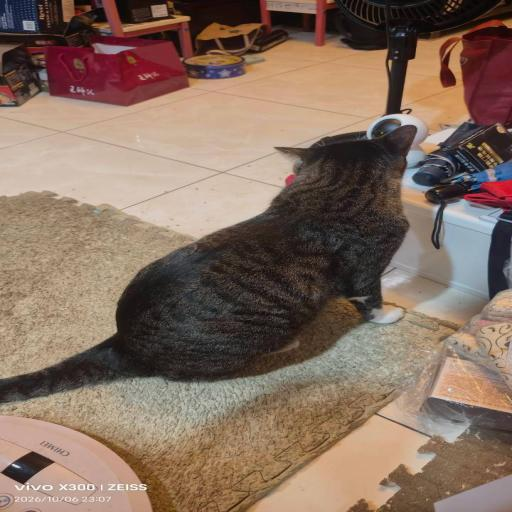cat: (130, 128, 414, 382)
